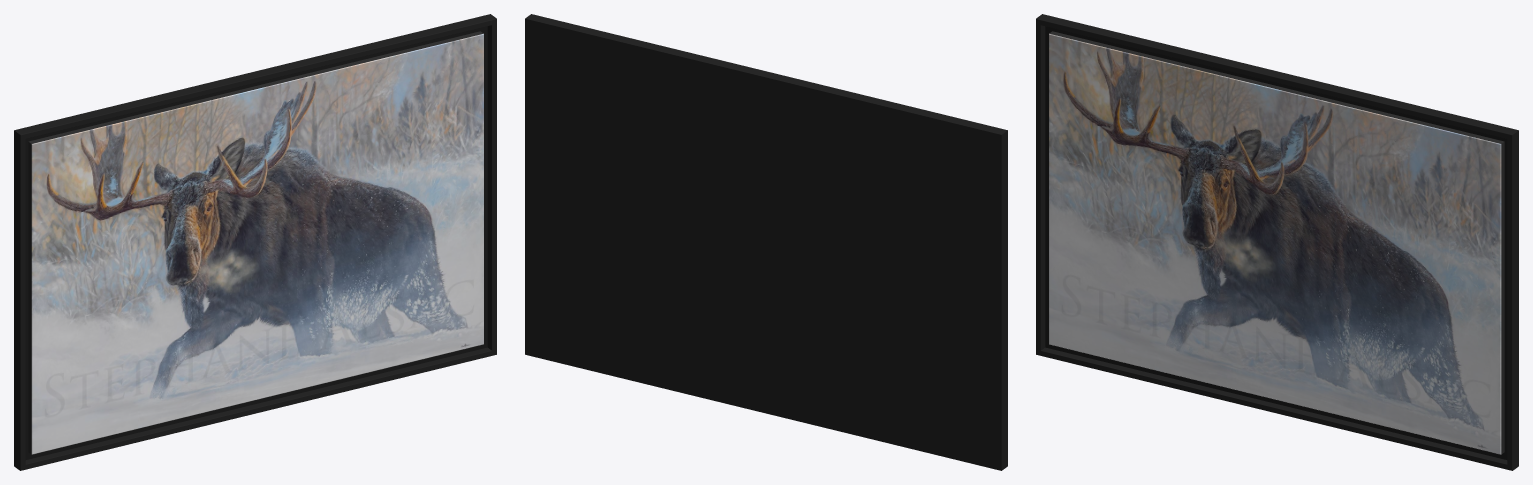
Rendered from tableau-elan-orignal-geant-b748820a.glb.
3 renders of one model, left to right at view 1: azimuth 30°, elevation 25°; view 2: azimuth 150°, elevation 25°; view 3: azimuth 330°, elevation 25°, orthographic.
Visible parts, largest first — view 1: Painting; view 2: Painting; view 3: Painting.
Boxes of the visible parts, box(x1,y1,x2,y2) form: Painting: box(14, 14, 496, 470); Painting: box(525, 14, 1007, 470); Painting: box(1036, 14, 1518, 470).
Bounding box in the file's own units: 1.69 × 1.14 × 0.04.
4 materials, 2 textured.
